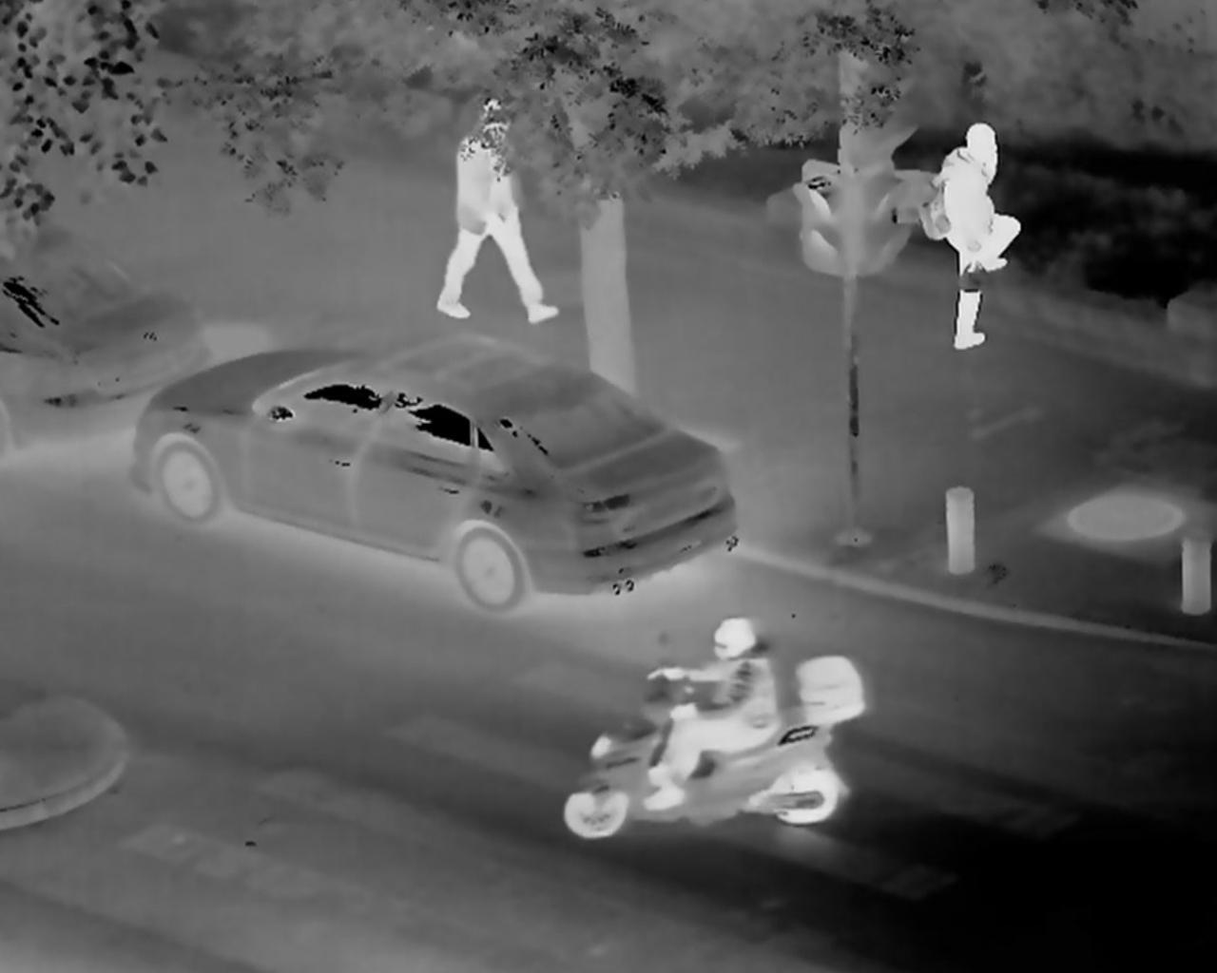person: (896, 100, 1032, 355), (440, 92, 565, 338), (646, 613, 787, 805)
